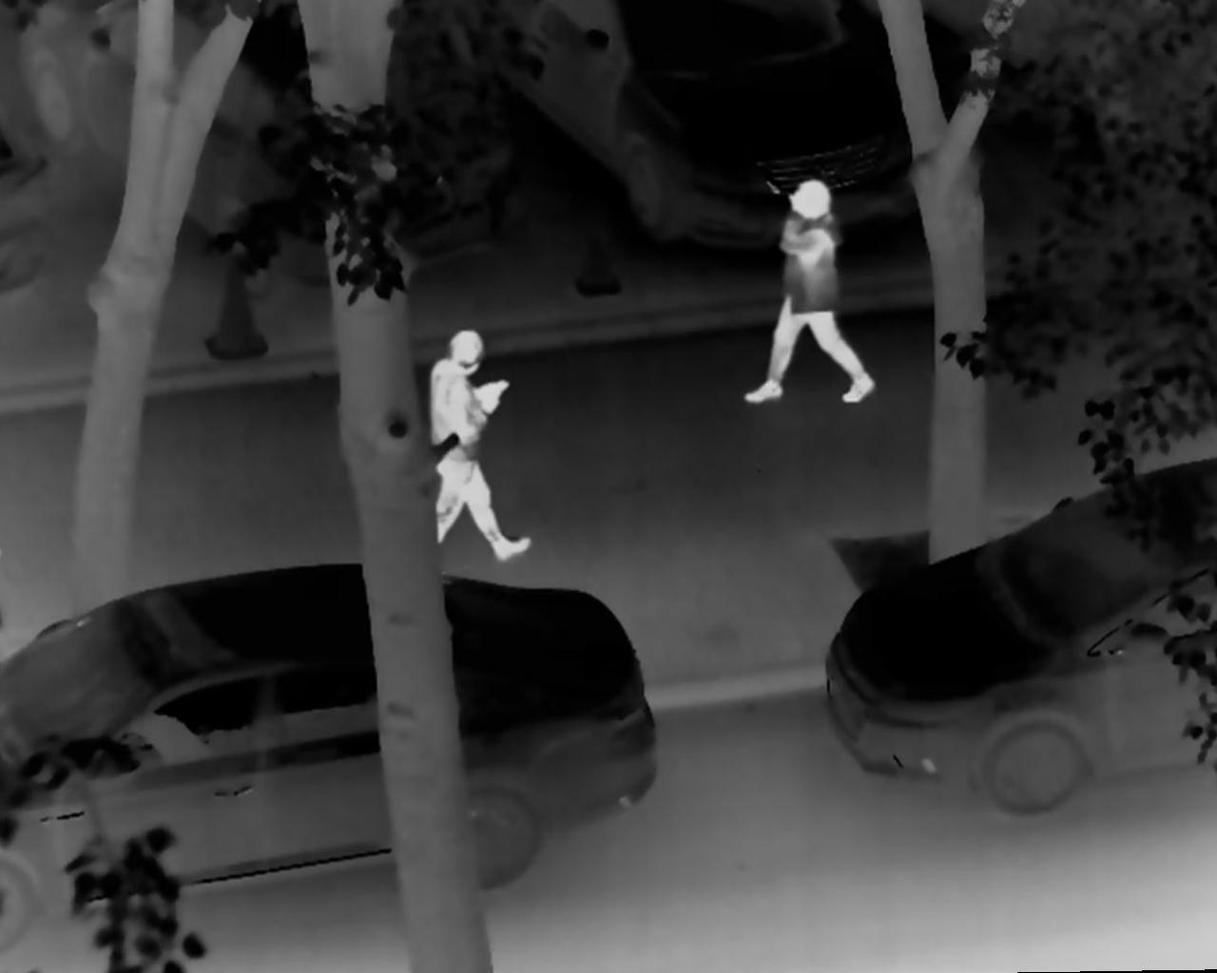person: (739, 172, 879, 413), (404, 323, 536, 563)
